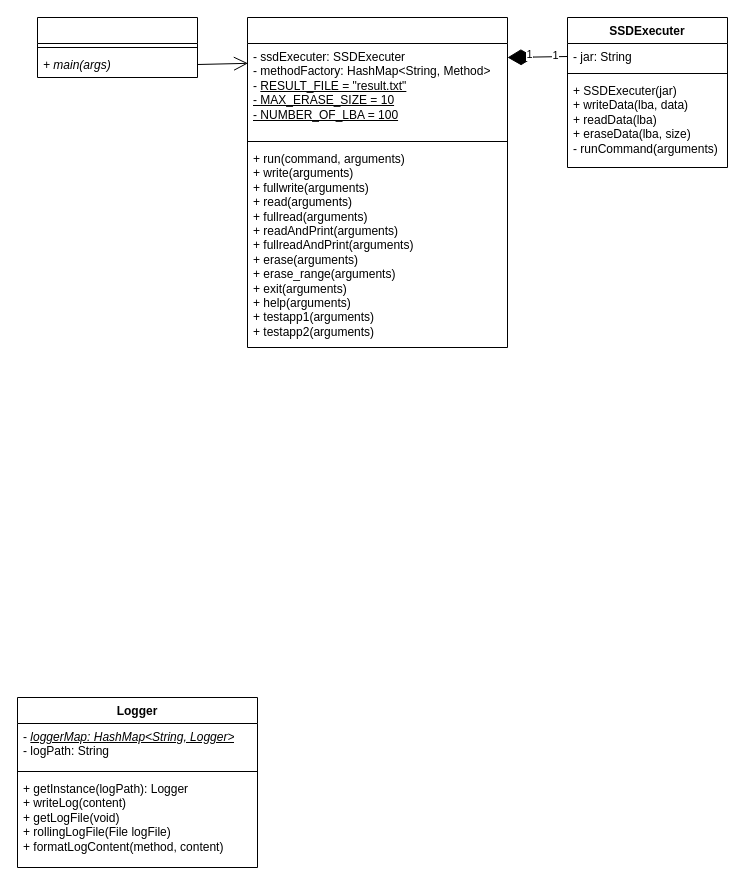
Image size: 745x888. Some labels were removed from this diagram. The box of each missing label's shape, as (x1, y1, x2, y2) in pixels:
TestShell: (246, 16, 508, 348)
TestShellScript: (36, 16, 198, 78)
